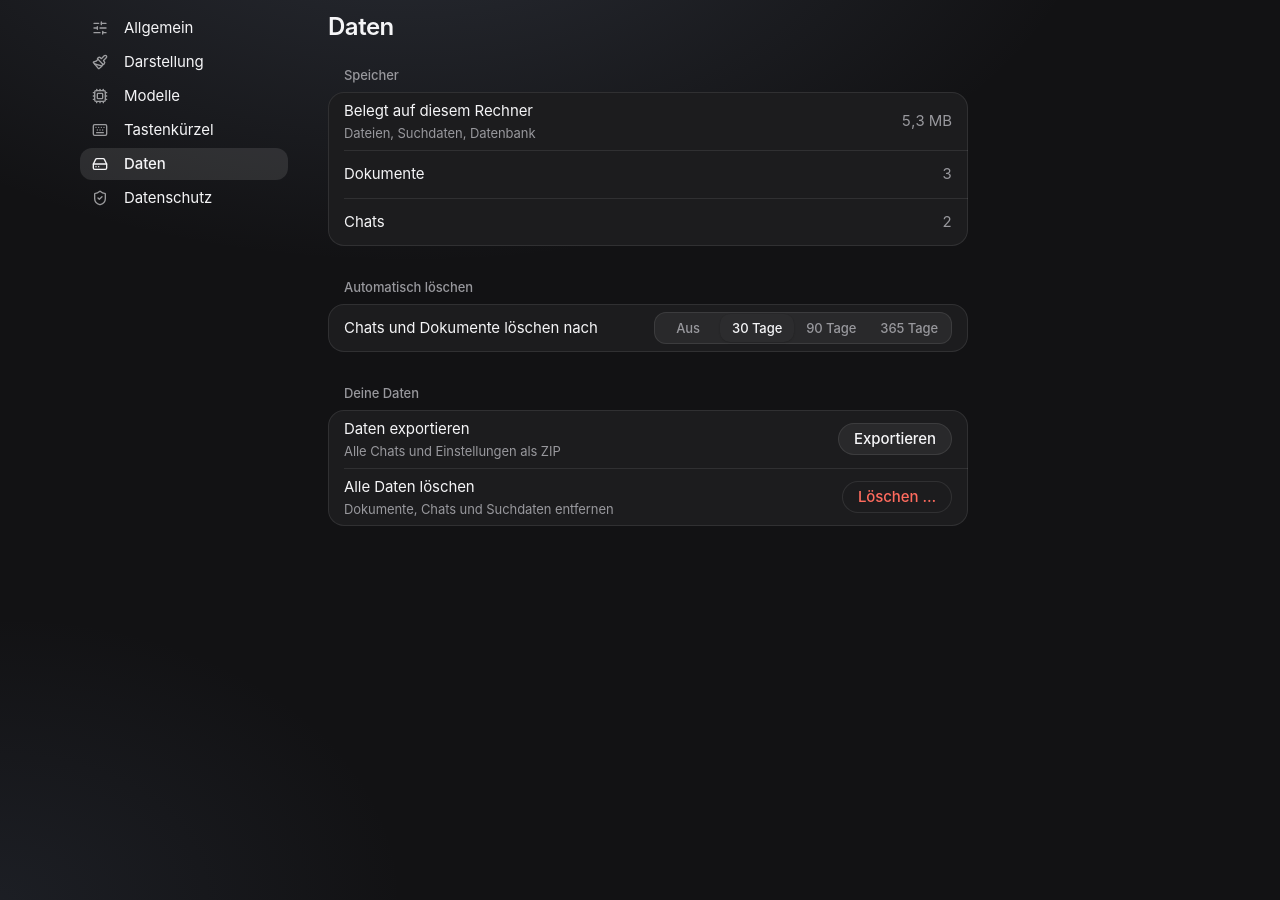
Test: SettingsView › shows storage and retention, and deletes everything after a clear confirmation
Check: the text "Belegt auf diesem Rechner" is shown, box x1=344 y1=101 x2=533 y2=120
Click the button "Löschen …" at {"x": 897, "y": 497}, box x1=842 y1=481 x2=952 y2=513
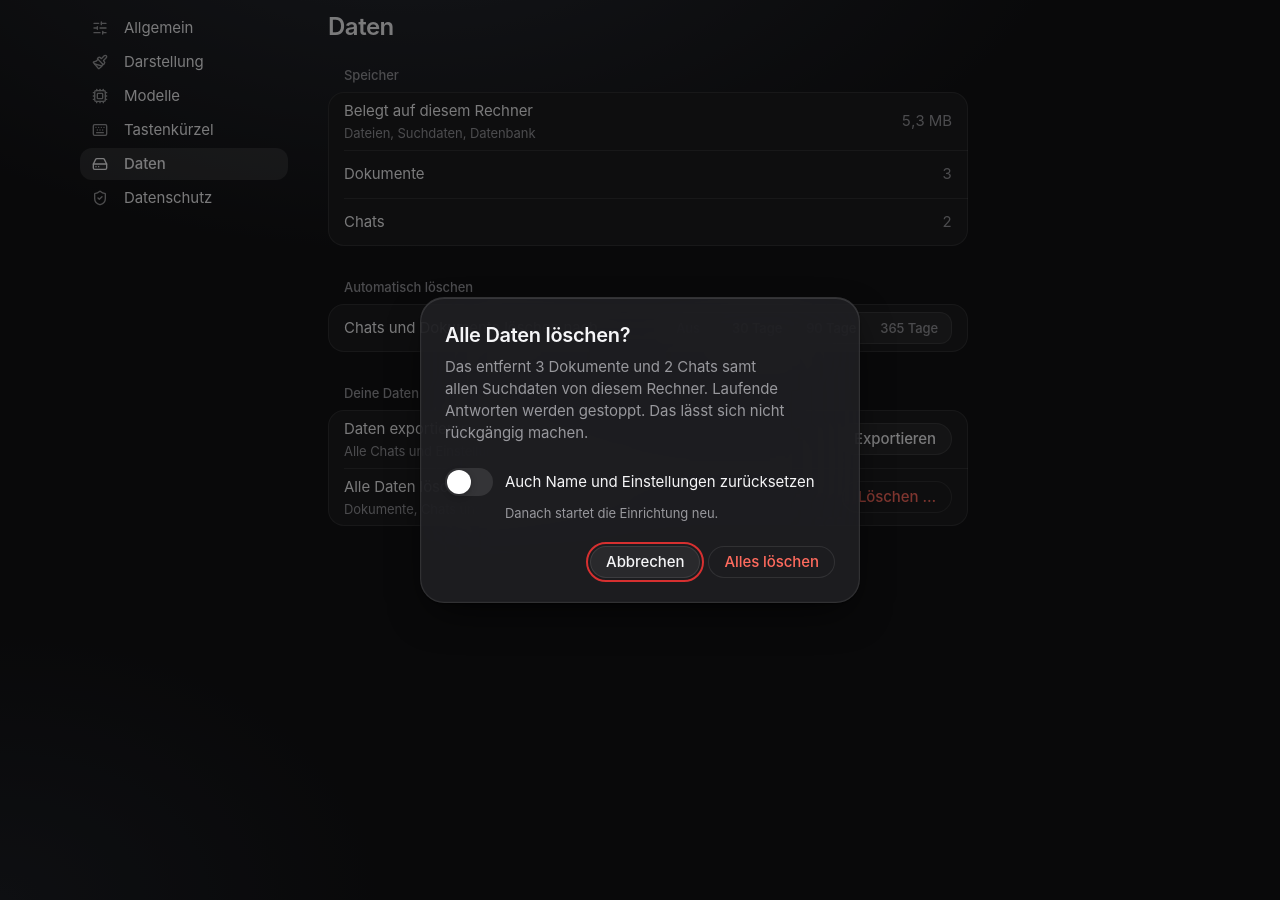
Check: the dialog "Alle Daten löschen?" shows "Das entfernt 3 Dokumente und 2 Chats samt allen Suchdaten", box x1=445 y1=357 x2=784 y2=442
Check: the dialog "Alle Daten löschen?" shows "nicht rückgängig", box x1=445 y1=357 x2=784 y2=442
Click the switch named "Auch Name und Einstellungen zurücksetzen" at {"x": 469, "y": 482}, box x1=445 y1=468 x2=493 y2=496
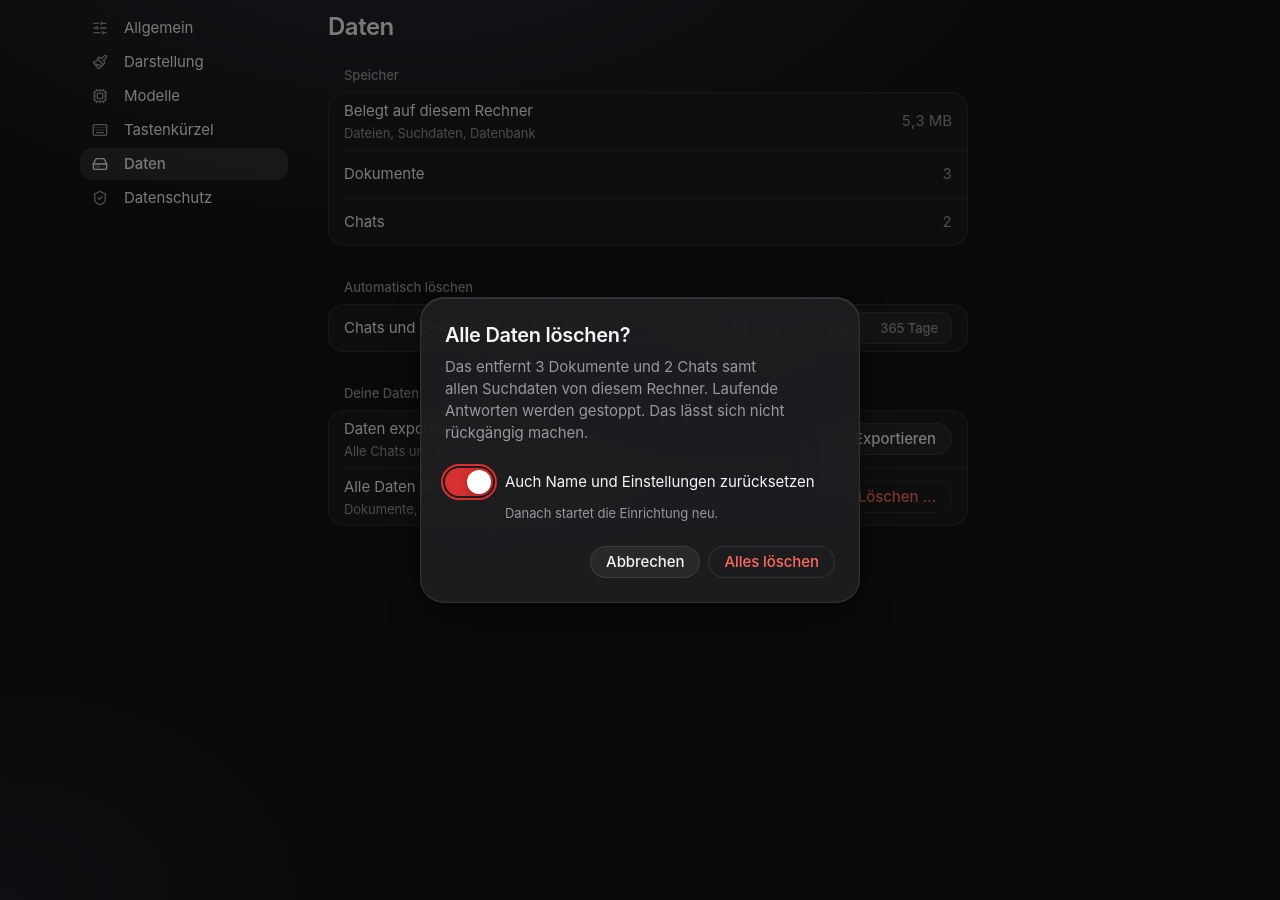
Click the button "Alles löschen" at {"x": 772, "y": 562}, box x1=708 y1=546 x2=835 y2=578
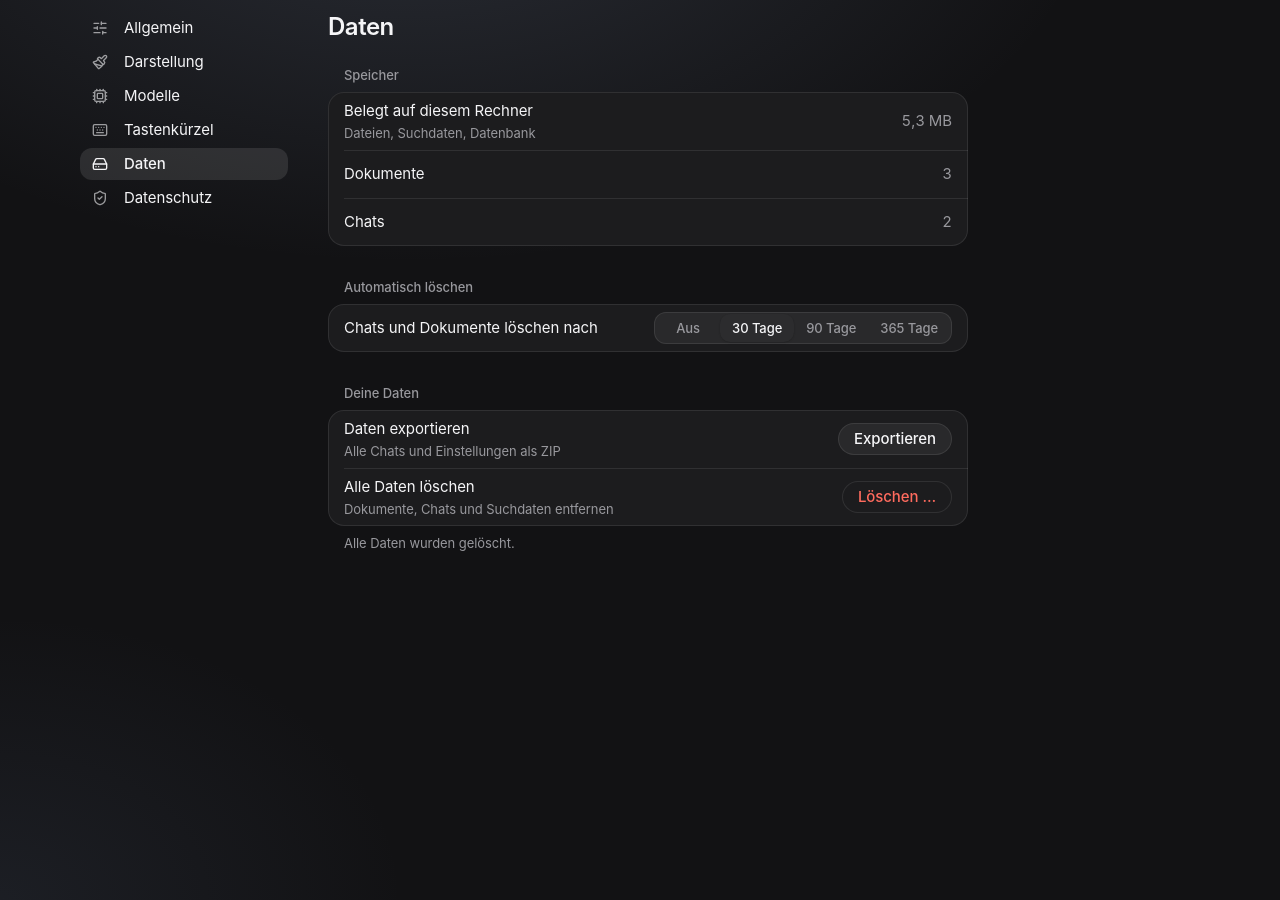
Check: the text "Alle Daten wurden gelöscht." is shown, box x1=344 y1=535 x2=515 y2=551
